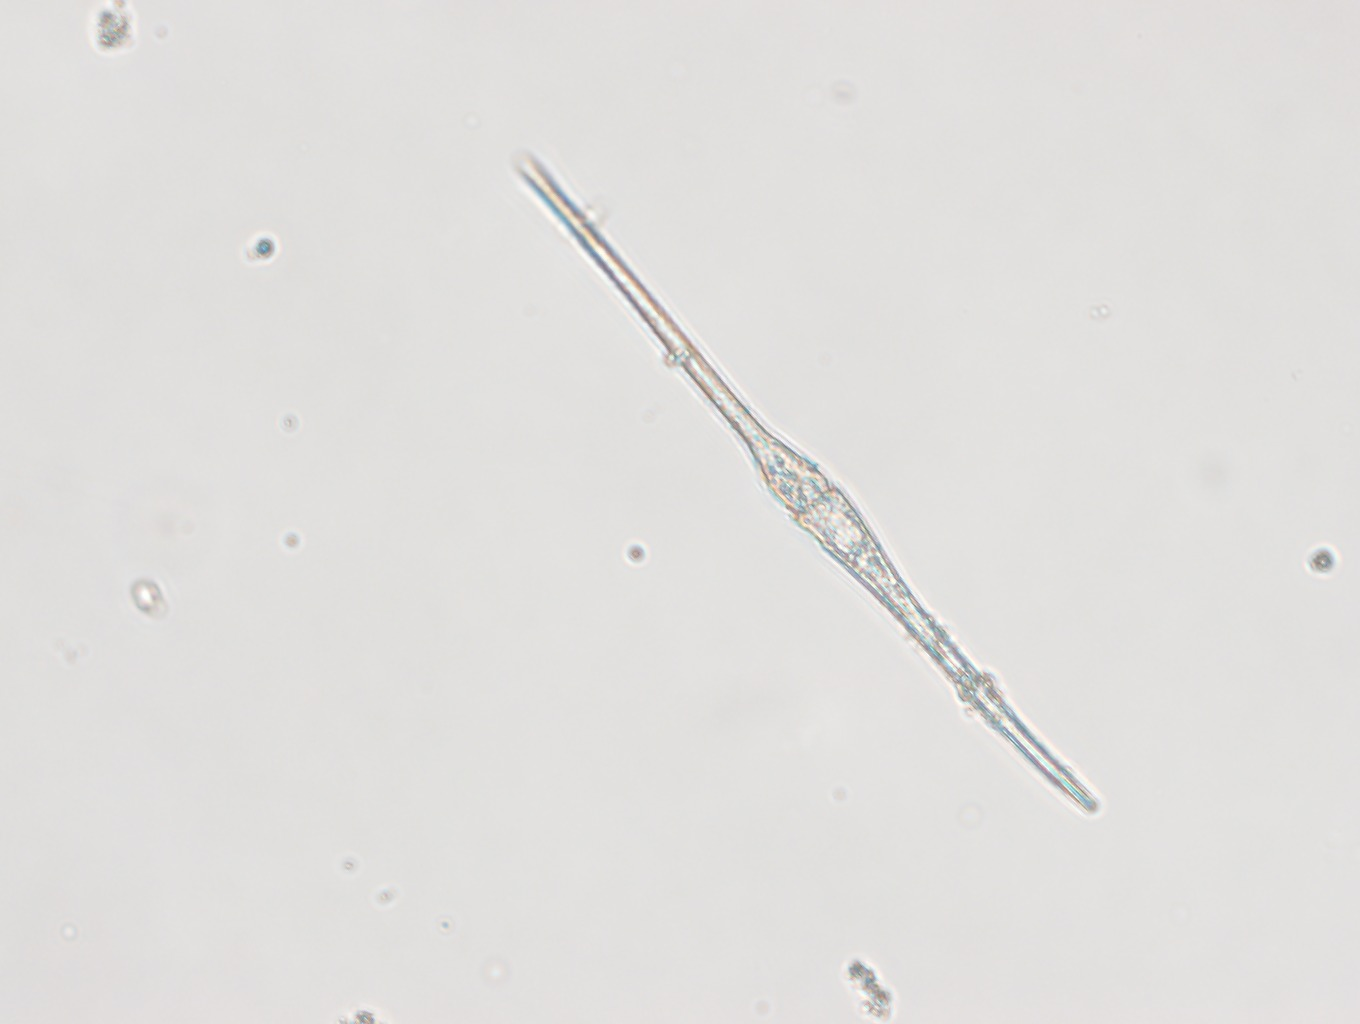ceratium fusus: (510, 150, 1101, 815)
